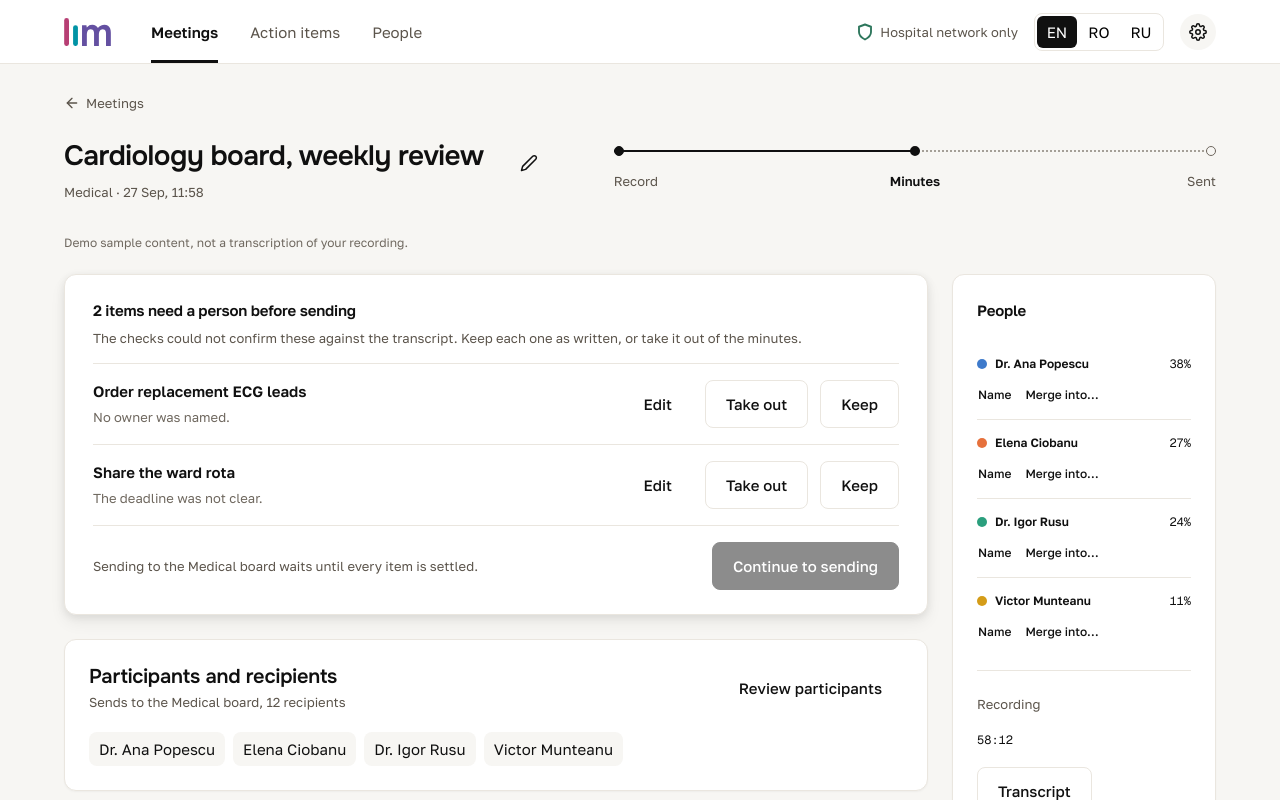
Test: real pipeline screens › holds sending until every unconfirmed item is kept or taken out
The width and height of the screenshot is (1280, 800).
Expected: the heading "2 items need a person before sending" is shown, [93,301,356,319]
Expected: the button "Continue to sending" is disabled, [712,542,899,590]
Click the button with aria-label "Take out: Order replacement ECG leads".
click(757, 404)  # box [705,380,808,428]
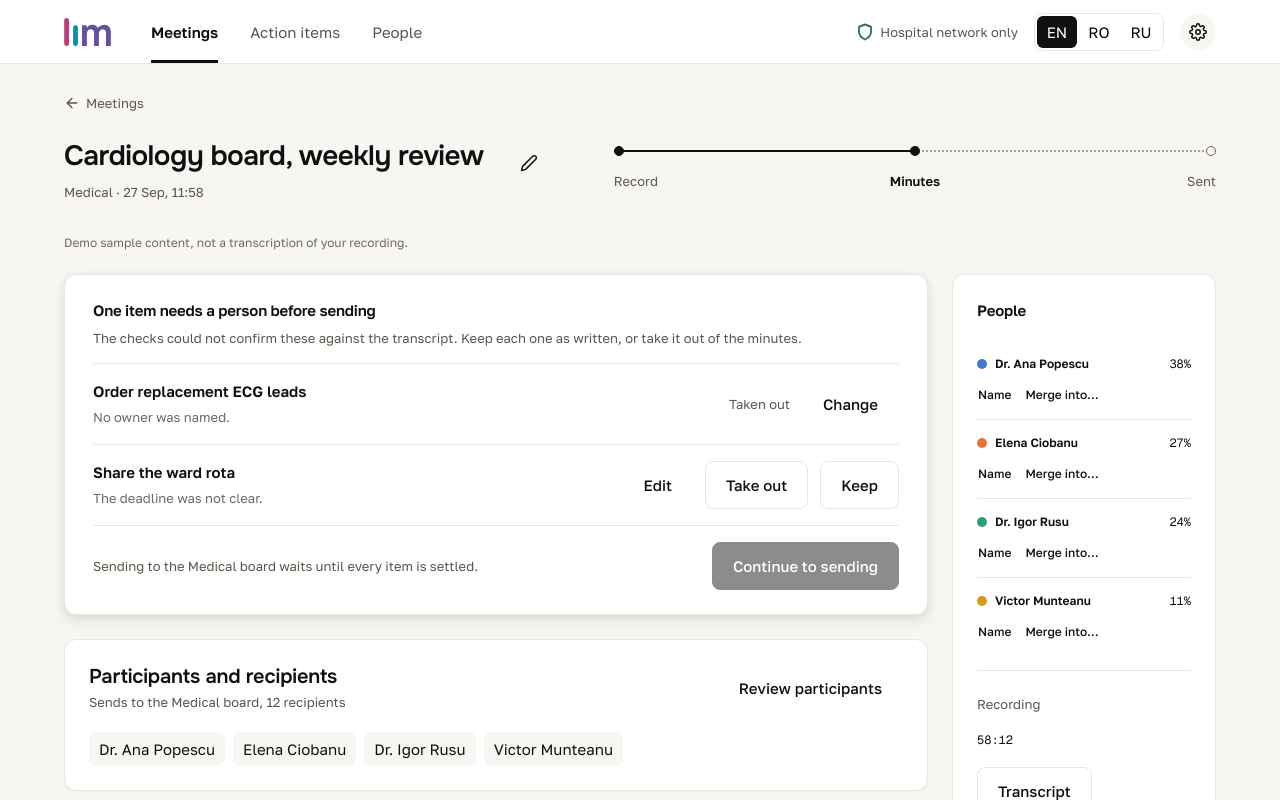
Expected: the button "Continue to sending" is disabled, [712,542,899,590]
Expected: the text "Taken out" is shown, [729,393,790,415]
Click the button with aria-label "Keep: Share the ward rota".
click(860, 485)  # box [820,461,899,509]
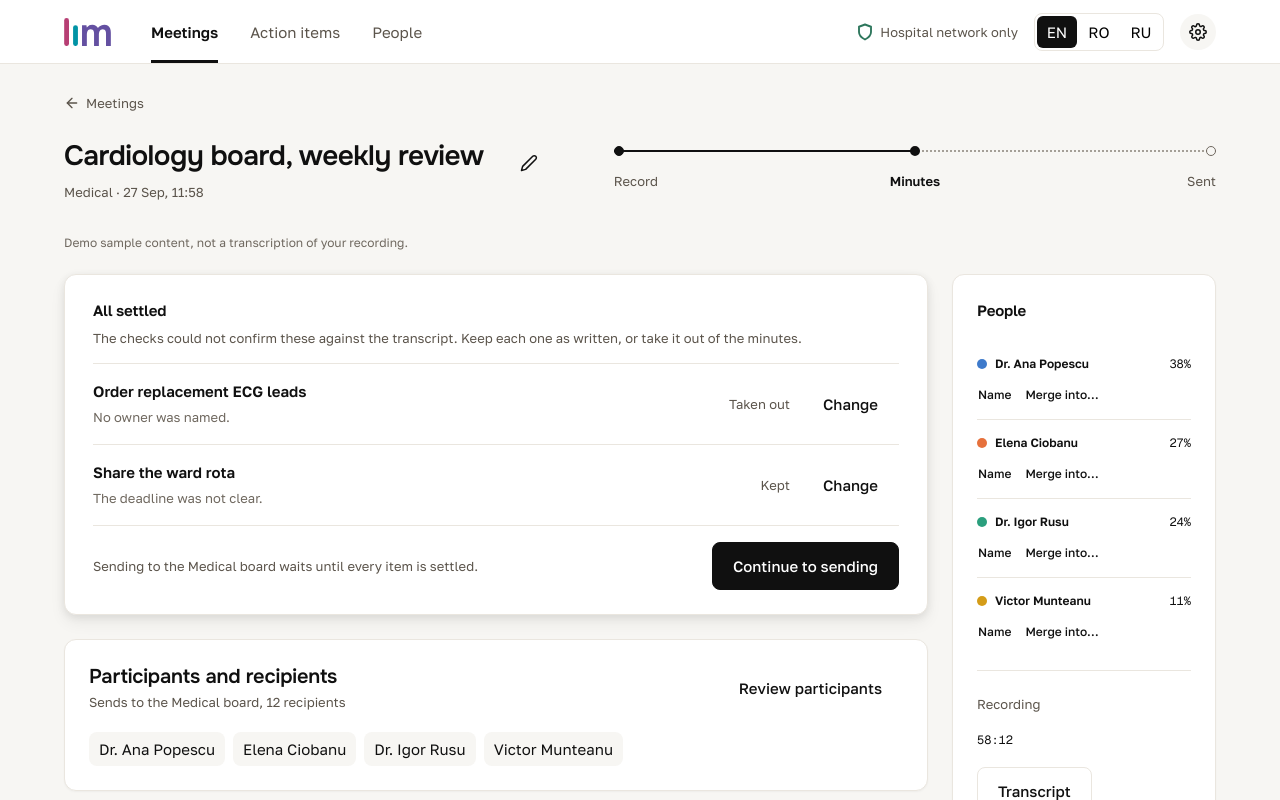
Expected: the text "Kept" is shown, [761,474,790,496]
Expected: the button "Continue to sending" is enabled, [712,542,899,590]
